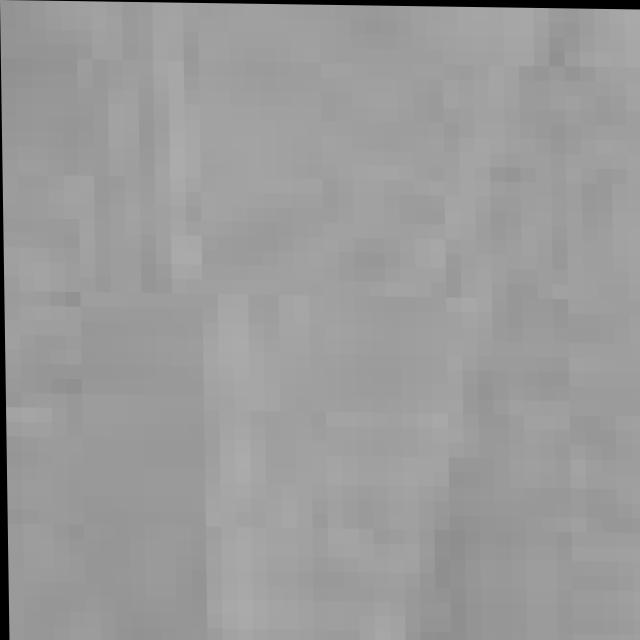fracture: (0, 5, 638, 640)
